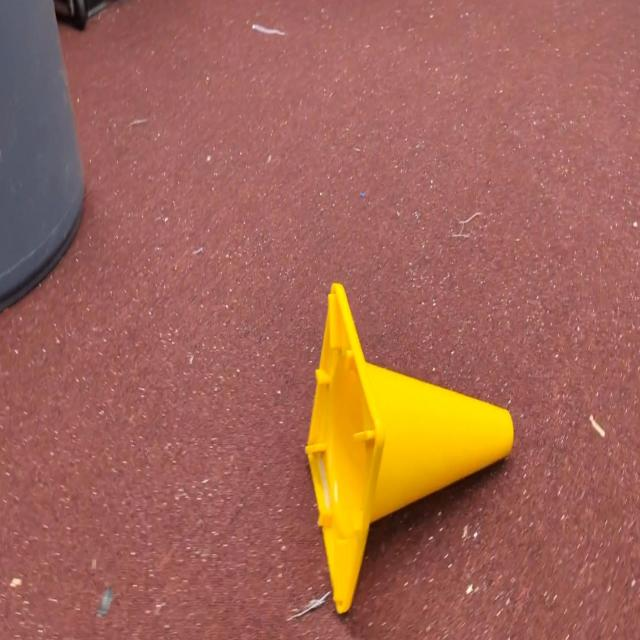frc_cone: (304, 284, 513, 612)
